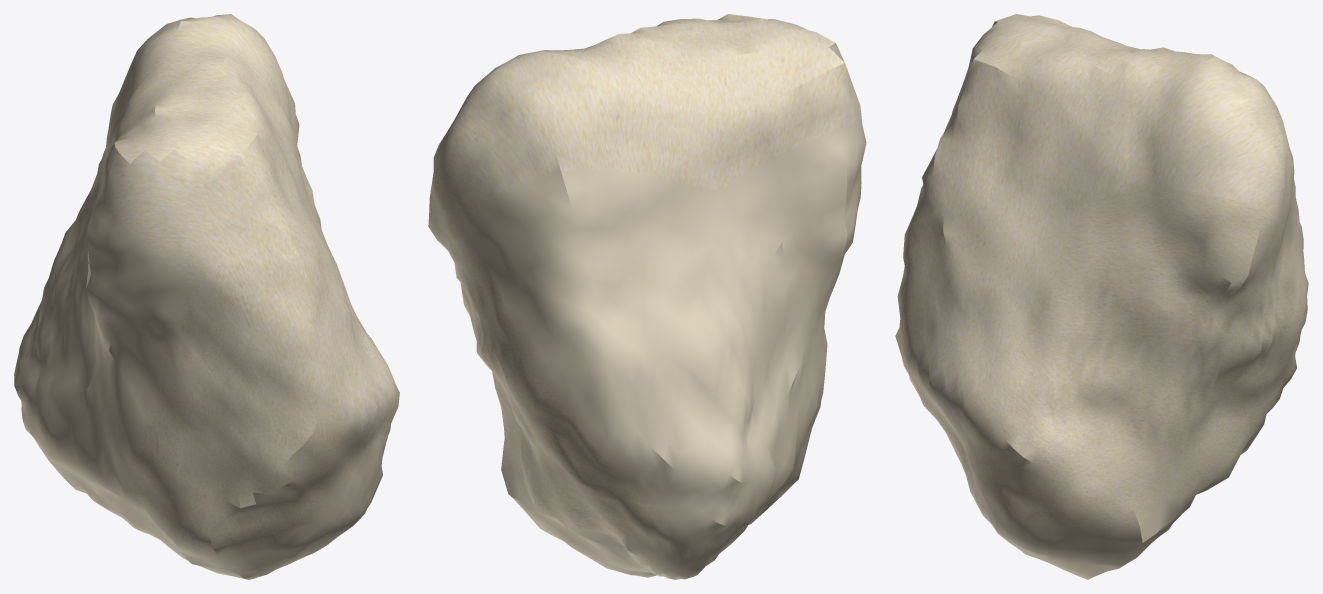
File: obstacle.obj
3 renders of one model, left to right at view 1: azimuth 30°, elevation 25°; view 2: azimuth 150°, elevation 25°; view 3: azimuth 270°, elevation 25°, orthographic. The views are drawn at different scales.
Parts seen in each view (by area): view 1: rock; view 2: rock; view 3: rock.
Boxes of the visible parts, x1,y1,x2,y2 form: rock: [14, 14, 399, 579]; rock: [428, 14, 866, 579]; rock: [895, 14, 1308, 579].
Size of the model in its own units: 0.7004 by 1.15 by 0.8381.
